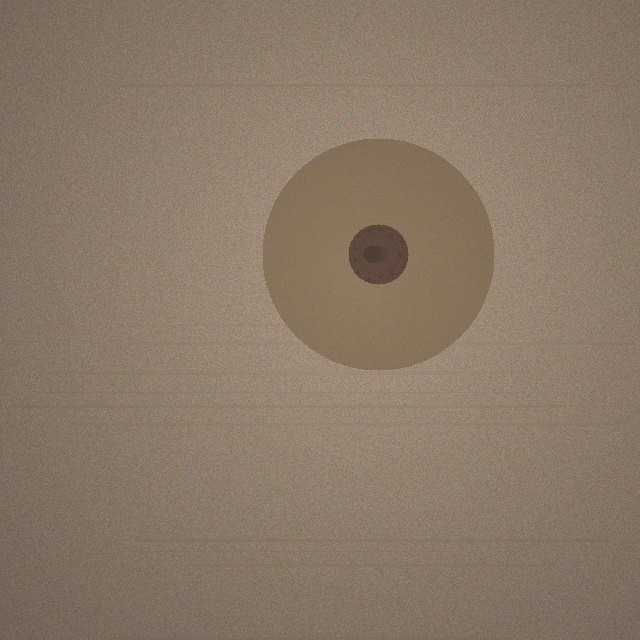cold_weld: (262, 138, 494, 370)
